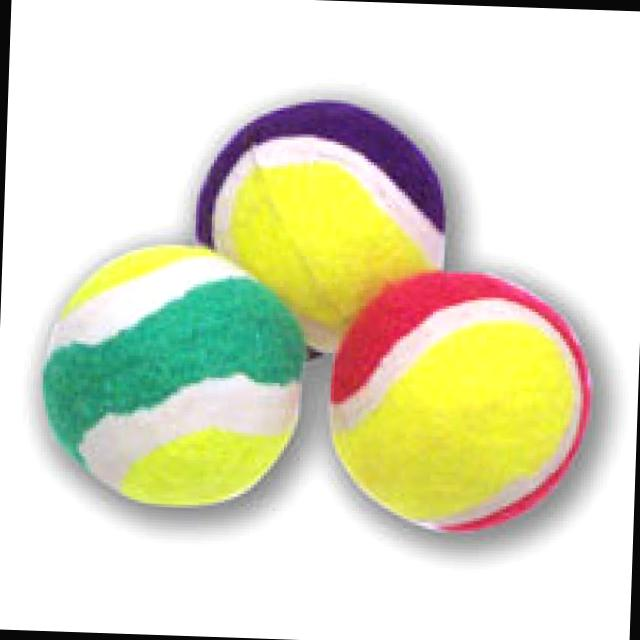Tennis Ball: (326, 270, 593, 537), (40, 244, 309, 509), (189, 102, 446, 359)
